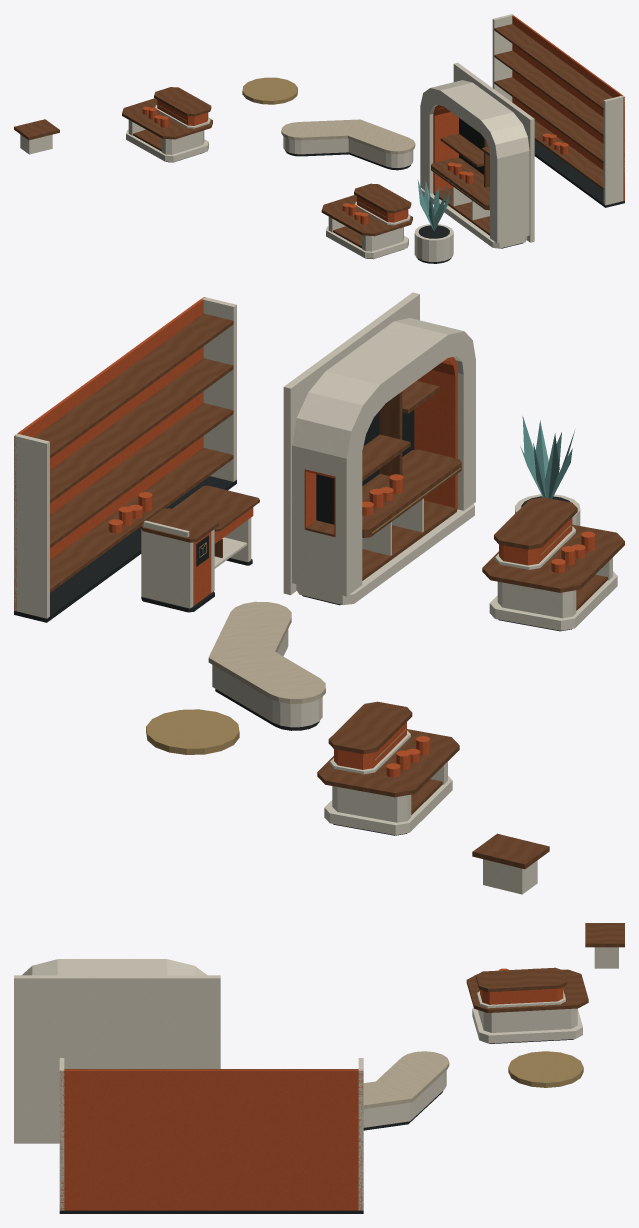
The model's file is SHOP_D09_P72_F132__fitout.glb.
3 renders of one model, top to bottom at view 1: azimuth 30°, elevation 25°; view 2: azimuth 150°, elevation 25°; view 3: azimuth 270°, elevation 25°, orthographic. The views are drawn at different scales.
Visible parts, largest first — view 1: SHOP_D09_P72_F132__fitout__ivory_enamel, SHOP_D09_P72_F132__fitout__warm_walnut, SHOP_D09_P72_F132__fitout__retail_terracotta_enamel, SHOP_D09_P72_F132__fitout__oatmeal_weave, SHOP_D09_P72_F132__fitout__dark_rubber, SHOP_D09_P72_F132__fitout__champagne_metal, SHOP_D09_P72_F132__fitout__quiet_teal; view 2: SHOP_D09_P72_F132__fitout__ivory_enamel, SHOP_D09_P72_F132__fitout__warm_walnut, SHOP_D09_P72_F132__fitout__retail_terracotta_enamel, SHOP_D09_P72_F132__fitout__oatmeal_weave, SHOP_D09_P72_F132__fitout__dark_rubber, SHOP_D09_P72_F132__fitout__champagne_metal, SHOP_D09_P72_F132__fitout__quiet_teal; view 3: SHOP_D09_P72_F132__fitout__retail_terracotta_enamel, SHOP_D09_P72_F132__fitout__ivory_enamel, SHOP_D09_P72_F132__fitout__warm_walnut, SHOP_D09_P72_F132__fitout__oatmeal_weave, SHOP_D09_P72_F132__fitout__champagne_metal, SHOP_D09_P72_F132__fitout__dark_rubber.
Boxes of the visible parts, box(x1,y1,x2,y2) form: SHOP_D09_P72_F132__fitout__ivory_enamel: box(20, 14, 624, 261); SHOP_D09_P72_F132__fitout__warm_walnut: box(14, 24, 612, 248); SHOP_D09_P72_F132__fitout__retail_terracotta_enamel: box(142, 14, 624, 224); SHOP_D09_P72_F132__fitout__oatmeal_weave: box(281, 119, 415, 154); SHOP_D09_P72_F132__fitout__dark_rubber: box(166, 118, 624, 263); SHOP_D09_P72_F132__fitout__champagne_metal: box(158, 77, 484, 217); SHOP_D09_P72_F132__fitout__quiet_teal: box(417, 179, 450, 231); SHOP_D09_P72_F132__fitout__ivory_enamel: box(14, 292, 617, 894); SHOP_D09_P72_F132__fitout__warm_walnut: box(34, 313, 624, 869); SHOP_D09_P72_F132__fitout__retail_terracotta_enamel: box(14, 297, 595, 777); SHOP_D09_P72_F132__fitout__oatmeal_weave: box(208, 601, 325, 703); SHOP_D09_P72_F132__fitout__dark_rubber: box(14, 410, 571, 835); SHOP_D09_P72_F132__fitout__champagne_metal: box(146, 468, 571, 760); SHOP_D09_P72_F132__fitout__quiet_teal: box(520, 416, 574, 498); SHOP_D09_P72_F132__fitout__retail_terracotta_enamel: box(59, 968, 563, 1210); SHOP_D09_P72_F132__fitout__ivory_enamel: box(14, 947, 618, 1210); SHOP_D09_P72_F132__fitout__warm_walnut: box(64, 923, 624, 1069); SHOP_D09_P72_F132__fitout__oatmeal_weave: box(363, 1051, 449, 1109); SHOP_D09_P72_F132__fitout__champagne_metal: box(508, 1051, 583, 1087); SHOP_D09_P72_F132__fitout__dark_rubber: box(59, 1039, 573, 1213).
Bounding box in the file's own units: 10.25 × 3 × 10.05.
7 materials, 6 textured.
